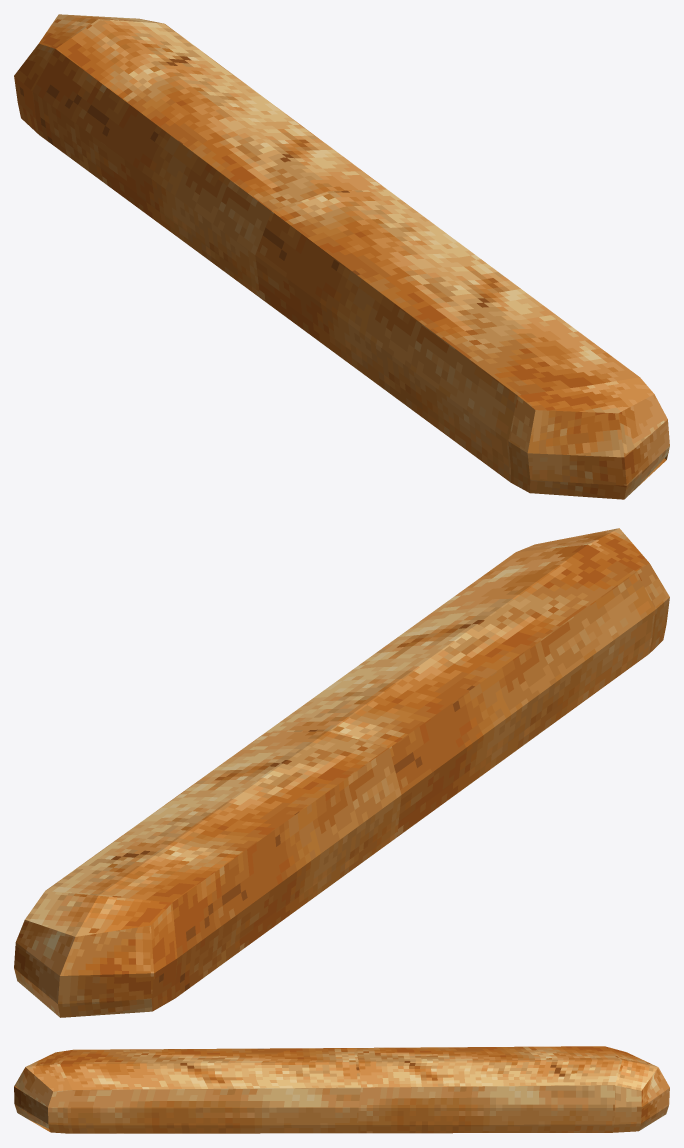
File: baguette.glb
3 renders of one model, top to bottom at view 1: azimuth 30°, elevation 25°; view 2: azimuth 150°, elevation 25°; view 3: azimuth 270°, elevation 25°, orthographic. The views are drawn at different scales.
Parts seen in each view (by area): view 1: baguette; view 2: baguette; view 3: baguette.
Boxes of the visible parts, left/top/right/bottom form: baguette: left=14, top=14, right=669, bottom=499; baguette: left=14, top=528, right=669, bottom=1017; baguette: left=14, top=1046, right=669, bottom=1133.
Bounding box in the file's own units: 0.1418 × 0.0897 × 0.9551.
1 material, 1 textured.
